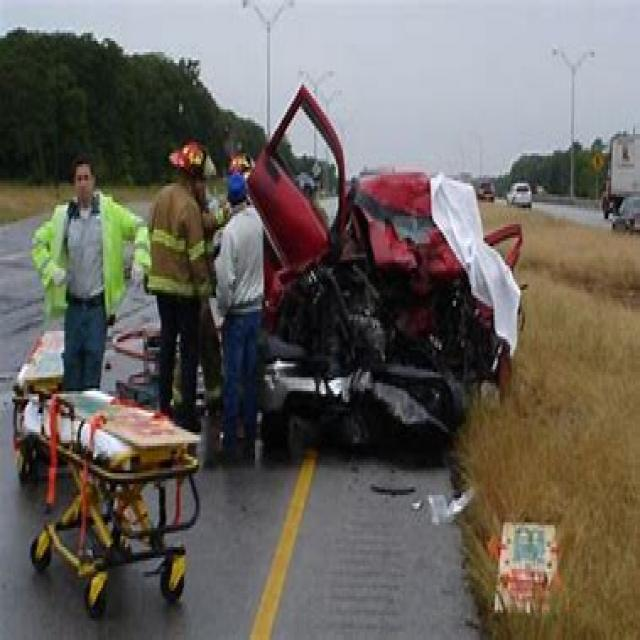Accident: (85, 50, 562, 444)
